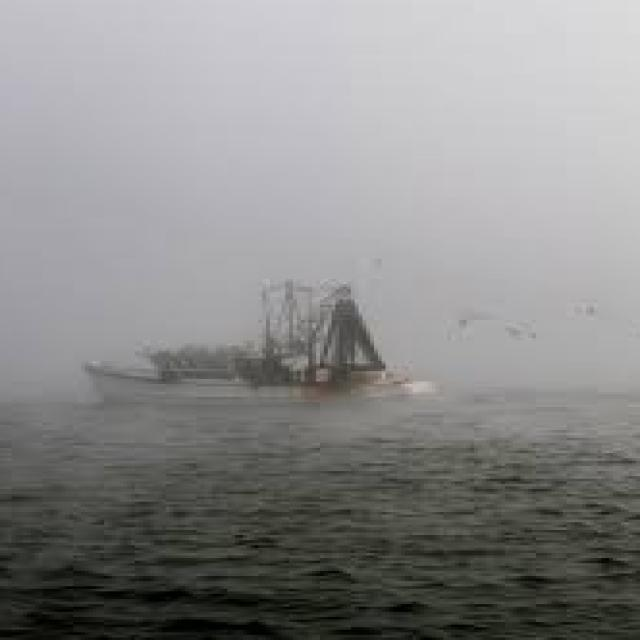fishing boat: (81, 274, 437, 406)
